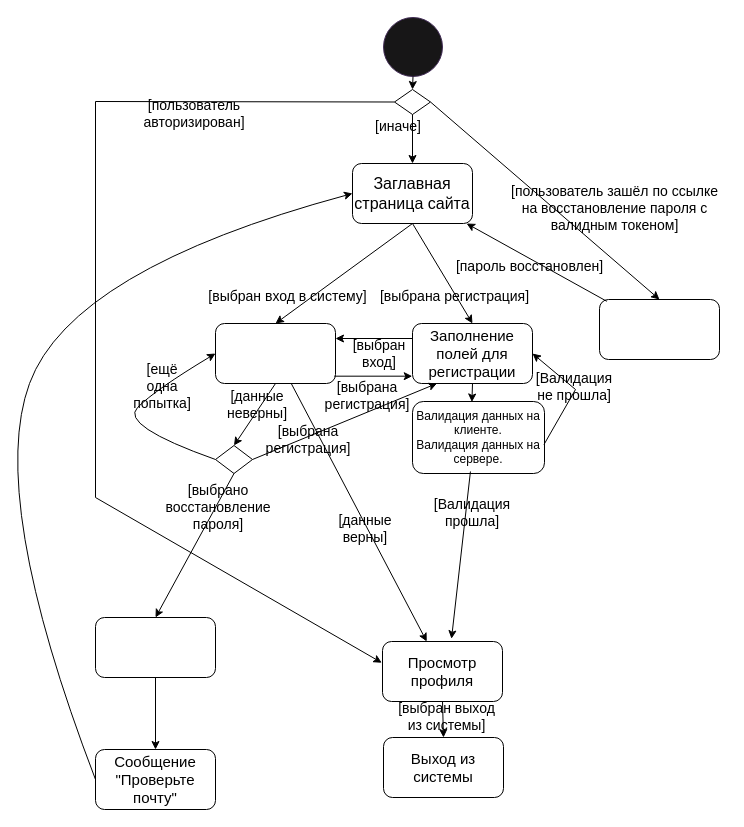
Some shapes in this 744 by 827 pixel diagram are drawn without their labels. Here are the shapes that lost their labels. From the top down, the centre of each, then its label:
At point 659,329: "Страница восстановления пароля".
At point 275,353: "Заполнение логина и пароля".
At point 155,647: "Ввод почты или логина".
